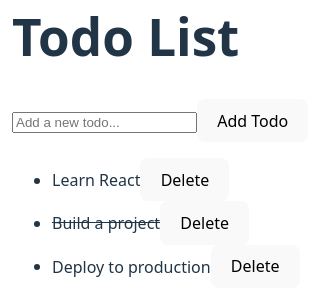
Test case: TodoList Component › deletes a todo
The width and height of the screenshot is (332, 294).
Click the button "Delete" next to "Learn React" at {"x": 185, "y": 180}, box [140, 158, 230, 202]
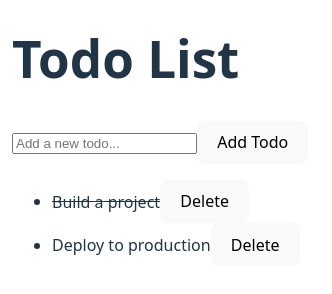
Check: the text "Learn React" is gone
